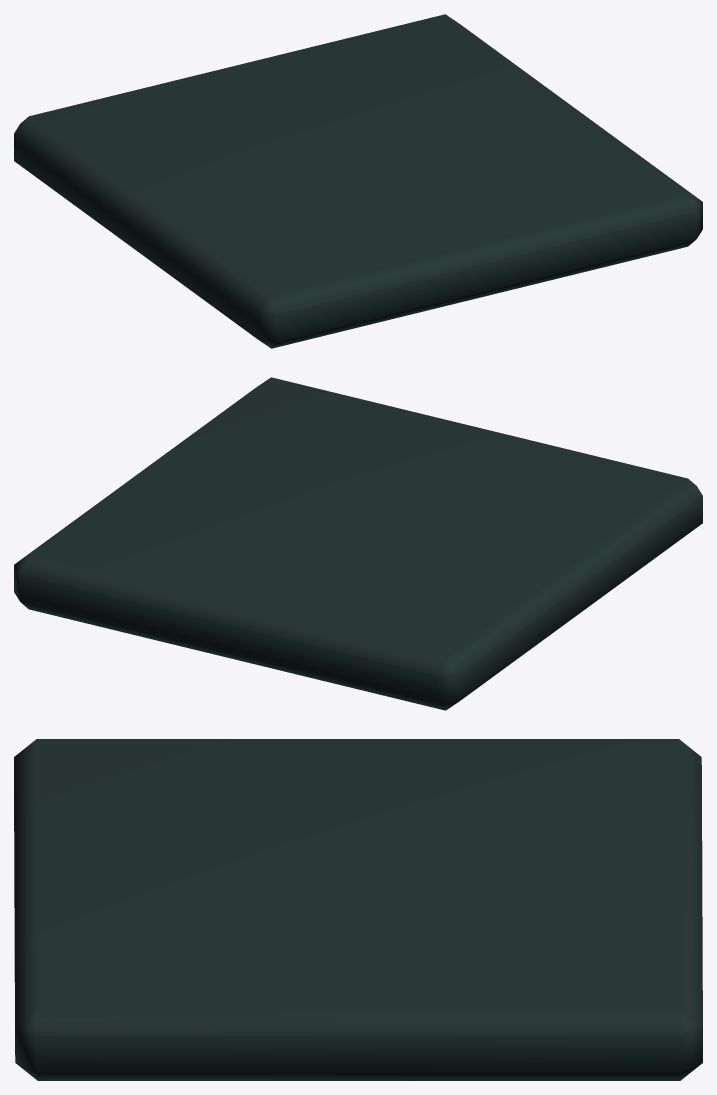
The model's file is rock_top_4x4.fbx.
The picture shows the model from 3 angles, top to bottom: view 1: azimuth 30°, elevation 25°; view 2: azimuth 150°, elevation 25°; view 3: azimuth 270°, elevation 25°; orthographic projection. The views are drawn at different scales.
Parts seen in each view (by area): view 1: rock_top_4x4; view 2: rock_top_4x4; view 3: rock_top_4x4.
Boxes of the visible parts, left/top/right/bottom form: rock_top_4x4: left=14, top=14, right=702, bottom=348; rock_top_4x4: left=14, top=377, right=702, bottom=710; rock_top_4x4: left=14, top=739, right=702, bottom=1080.
Bounding box in the file's own units: 427 × 50 × 431.
